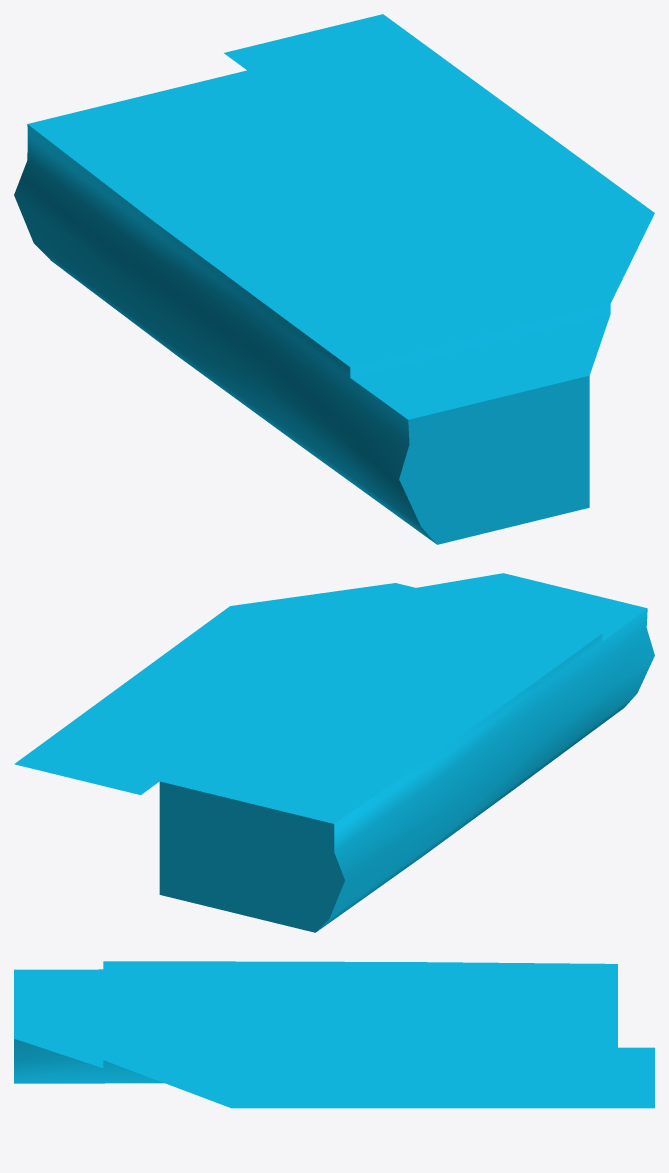
File: woda_2_5_2.FBX
The picture shows the model from 3 angles, top to bottom: view 1: azimuth 30°, elevation 25°; view 2: azimuth 150°, elevation 25°; view 3: azimuth 270°, elevation 25°; orthographic projection. The views are drawn at different scales.
Visible parts, largest first — view 1: woda_2_5_2; view 2: woda_2_5_2; view 3: woda_2_5_2.
Part boxes in pixels (x1=…): woda_2_5_2: x1=14, y1=14, x2=654, y2=544; woda_2_5_2: x1=14, y1=573, x2=654, y2=932; woda_2_5_2: x1=14, y1=961, x2=654, y2=1108.
Bounding box in the file's own units: 14.14 × 4.85 × 25.32.
